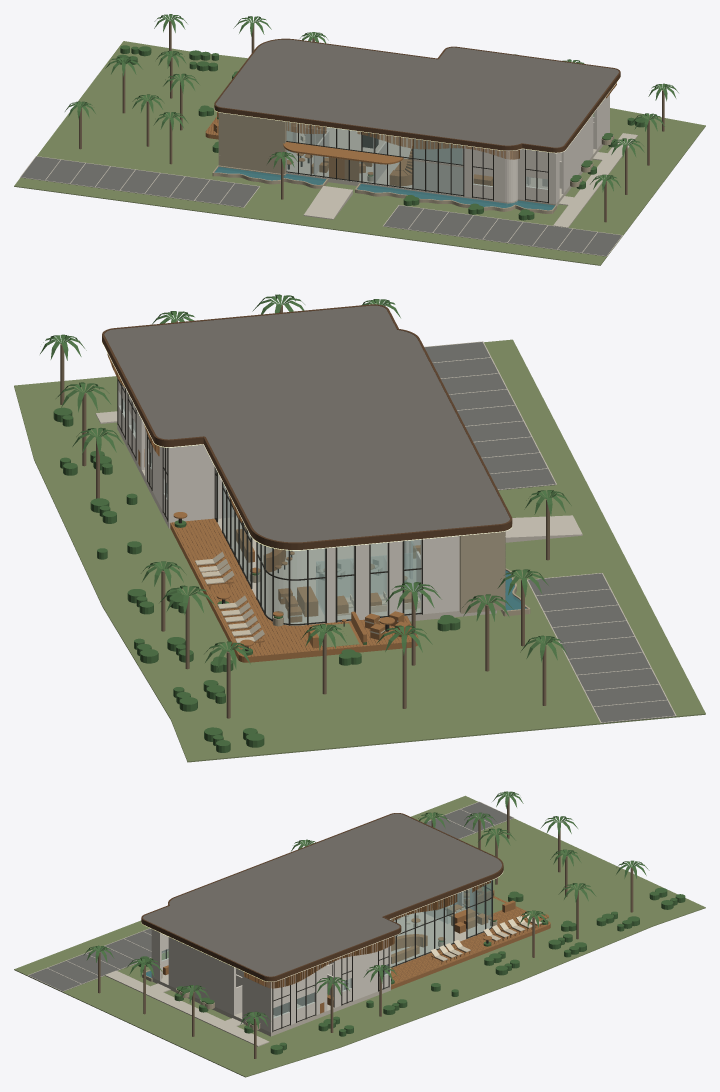
The model's file is estande.glb.
3 renders of one model, top to bottom at view 1: azimuth 30°, elevation 25°; view 2: azimuth 150°, elevation 25°; view 3: azimuth 270°, elevation 25°, orthographic. The views are drawn at different scales.
Visible parts, largest first — view 1: Piso_gramado, Cobertura_laje, Estacionamento, Paredes_externas, Fachada_vidro, Fachada_pedra, Paisagismo_folhas, Cobertura_fascia, Piso_terreo, Paisagismo_arbustos, Espelho_agua, Paisagismo_troncos (+16 smaller); view 2: Piso_gramado, Cobertura_laje, Estacionamento, Paredes_externas, Fachada_vidro, Paisagismo_folhas, Deck, Piso_terreo, Paisagismo_arbustos, Cobertura_fascia, Esquadrias_montantes, Paisagismo_troncos (+10 smaller); view 3: Piso_gramado, Cobertura_laje, Paredes_externas, Estacionamento, Paisagismo_folhas, Paisagismo_arbustos, Fachada_vidro, Cobertura_fascia, Deck, Piso_terreo, Esquadrias_montantes, Mobiliario (+11 smaller).
Boxes of the visible parts, x1,y1,x2,y2 form: Piso_gramado: (14, 41, 705, 265); Cobertura_laje: (216, 39, 618, 147); Estacionamento: (20, 156, 621, 256); Paredes_externas: (286, 94, 609, 204); Fachada_vidro: (286, 122, 462, 194); Fachada_pedra: (218, 112, 286, 174); Paisagismo_folhas: (65, 14, 678, 192); Cobertura_fascia: (214, 38, 620, 152); Piso_terreo: (225, 122, 603, 206); Paisagismo_arbustos: (116, 45, 645, 220); Espelho_agua: (214, 167, 555, 210); Paisagismo_troncos: (79, 21, 664, 222); Piso_gramado: (14, 339, 705, 762); Cobertura_laje: (104, 305, 509, 542); Estacionamento: (424, 342, 675, 723); Paredes_externas: (118, 389, 459, 622); Fachada_vidro: (223, 483, 420, 623); Paisagismo_folhas: (40, 294, 571, 669); Deck: (170, 518, 418, 662); Piso_terreo: (117, 425, 496, 625); Paisagismo_arbustos: (53, 407, 460, 752); Cobertura_fascia: (102, 304, 512, 549); Esquadrias_montantes: (117, 378, 422, 625); Paisagismo_troncos: (60, 305, 549, 718); Piso_gramado: (14, 795, 705, 1077); Cobertura_laje: (143, 813, 501, 976); Paredes_externas: (151, 887, 475, 1032); Estacionamento: (28, 802, 512, 991); Paisagismo_folhas: (83, 791, 649, 1028); Paisagismo_arbustos: (138, 887, 685, 1054); Fachada_vidro: (390, 880, 491, 966); Cobertura_fascia: (141, 813, 503, 981); Deck: (391, 891, 550, 989); Piso_terreo: (151, 906, 491, 1036); Esquadrias_montantes: (165, 880, 492, 1032); Mobiliario: (163, 888, 515, 1013).
Size of the model in its own units: 64.3 by 6.91 by 66.89.
